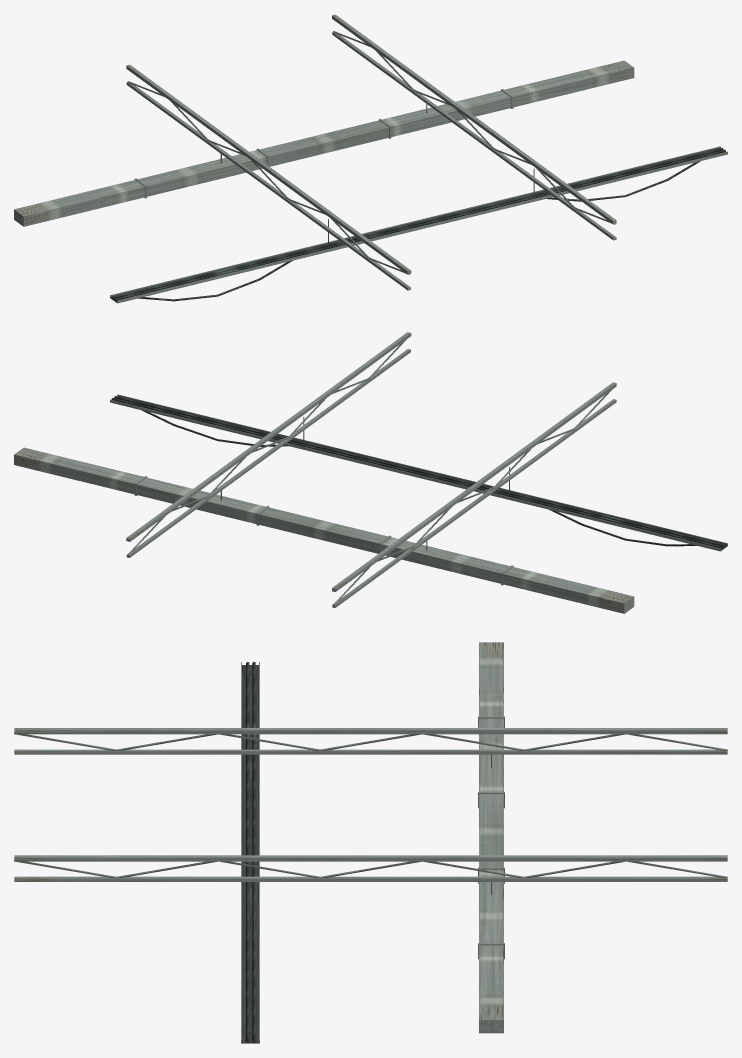
The model's file is ceiling_mess_hall.glb.
The picture shows the model from 3 angles, top to bottom: view 1: azimuth 30°, elevation 25°; view 2: azimuth 150°, elevation 25°; view 3: azimuth 270°, elevation 25°; orthographic projection. The views are drawn at different scales.
Visible parts, largest first — view 1: Ceiling; view 2: Ceiling; view 3: Ceiling.
Part boxes in pixels (bbox=[...]): Ceiling: bbox=[14, 14, 727, 303]; Ceiling: bbox=[14, 332, 727, 613]; Ceiling: bbox=[14, 642, 727, 1043].
Bounding box in the file's own units: 19.8 × 2.08 × 15.81.
Materials: 1 (1 with a texture image).
